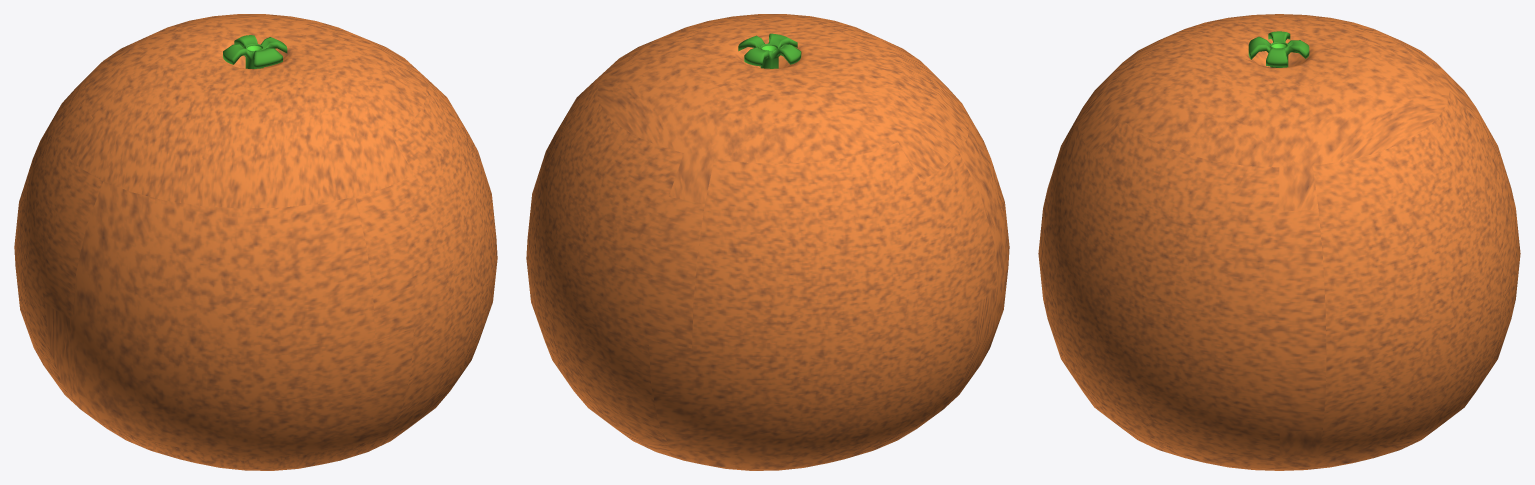
Rendered from orange.fbx.
The picture shows the model from 3 angles, left to right: view 1: azimuth 30°, elevation 25°; view 2: azimuth 150°, elevation 25°; view 3: azimuth 270°, elevation 25°; orthographic projection.
Parts seen in each view (by area): view 1: orange; view 2: orange; view 3: orange.
Boxes of the visible parts, bbox=[...] form: orange: bbox=[14, 14, 497, 470]; orange: bbox=[526, 14, 1009, 470]; orange: bbox=[1038, 14, 1520, 470].
Size of the model in its own units: 19.24 by 16.76 by 18.86.
Materials: 4 (1 with a texture image).
